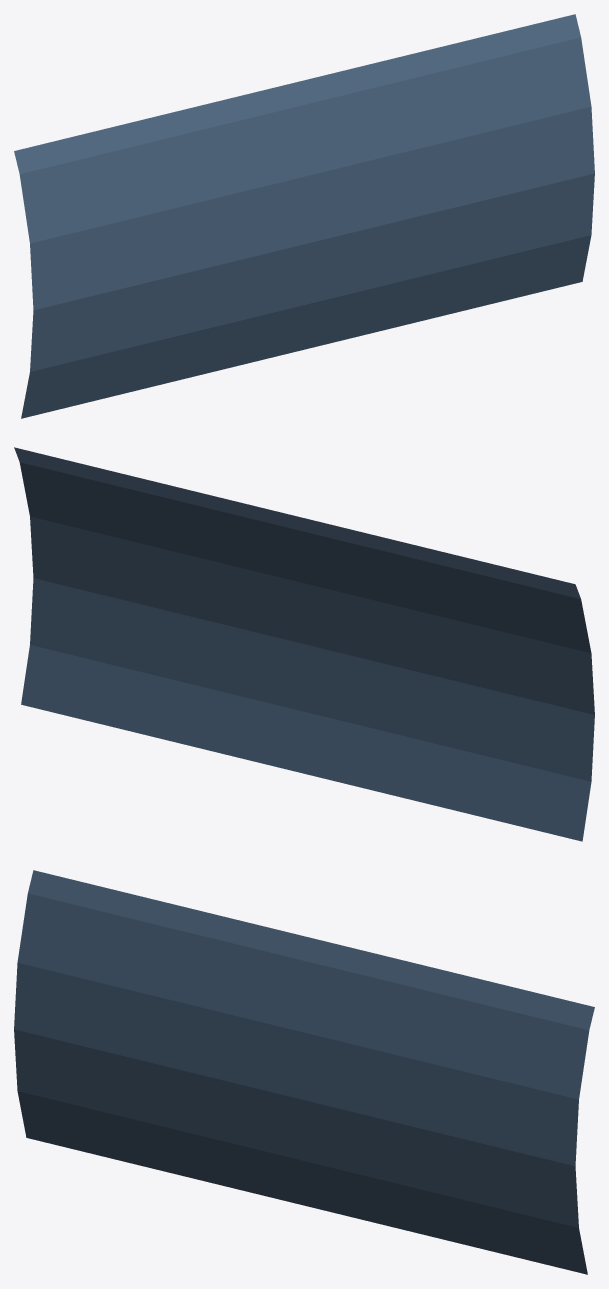
File: cell_47.obj
3 views of the same model, one above another, from view 1: azimuth 30°, elevation 25°; view 2: azimuth 150°, elevation 25°; view 3: azimuth 330°, elevation 25° (orthographic).
Size of the model in its own units: 1 by 0.4468 by 0.06.
